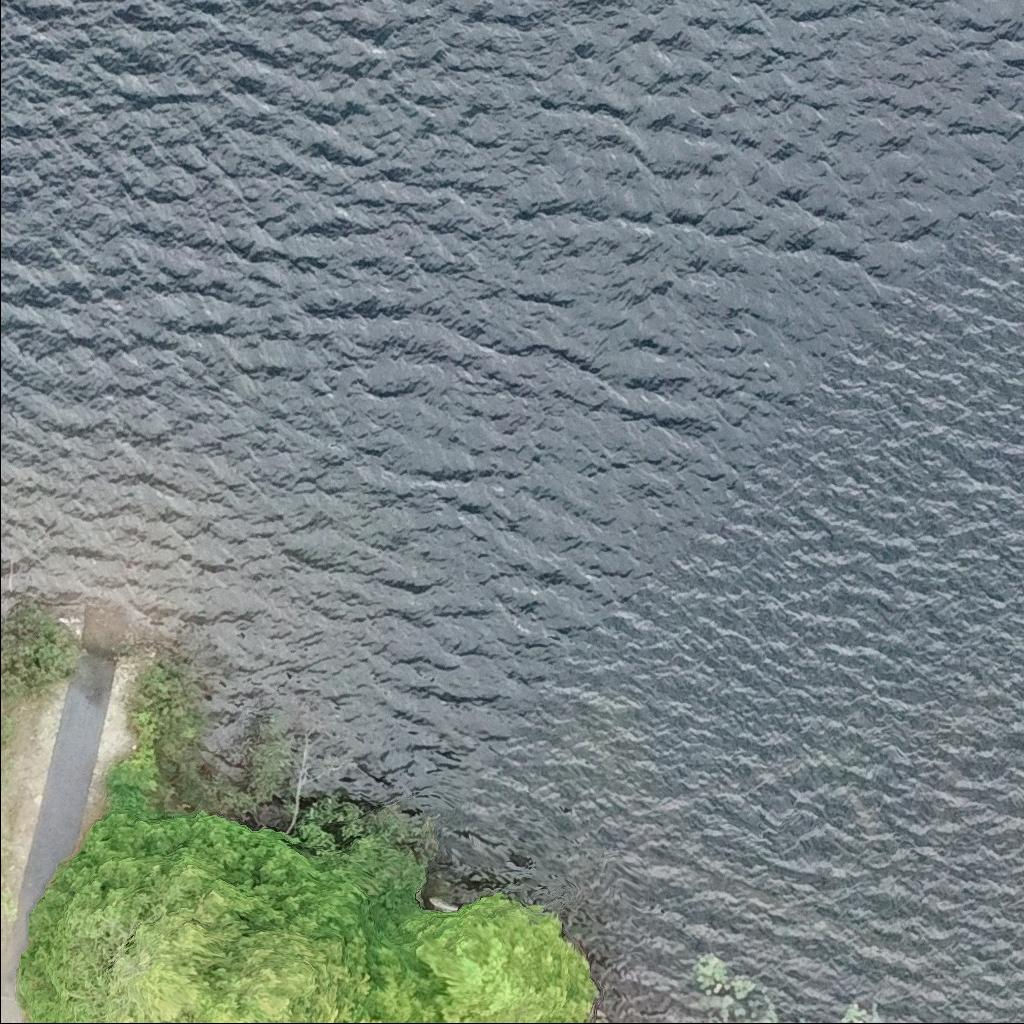crown: (24, 815, 369, 1023), (417, 885, 597, 1023), (300, 999, 354, 1023)
